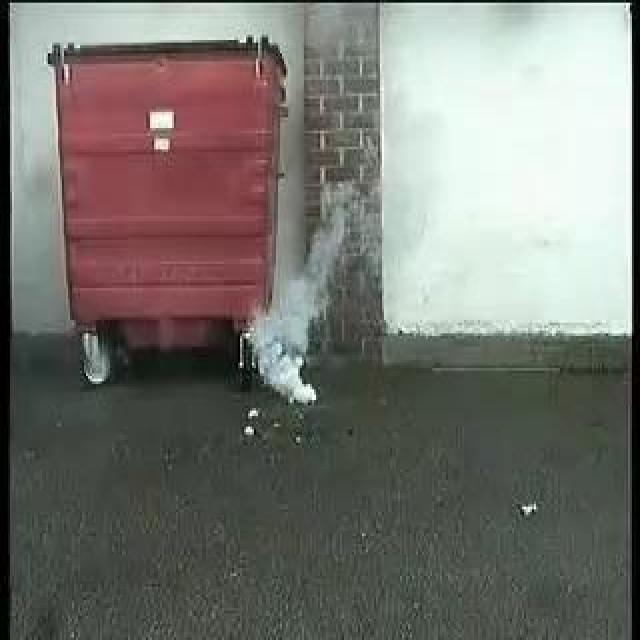Smoke: (253, 180, 347, 404)
